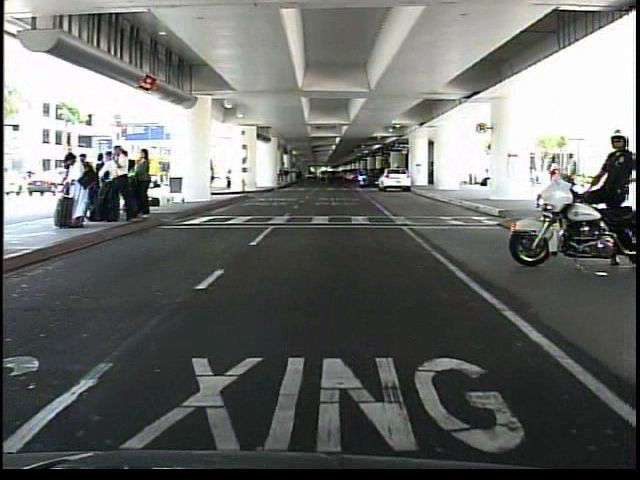person: (583, 127, 640, 268), (480, 161, 493, 193)
